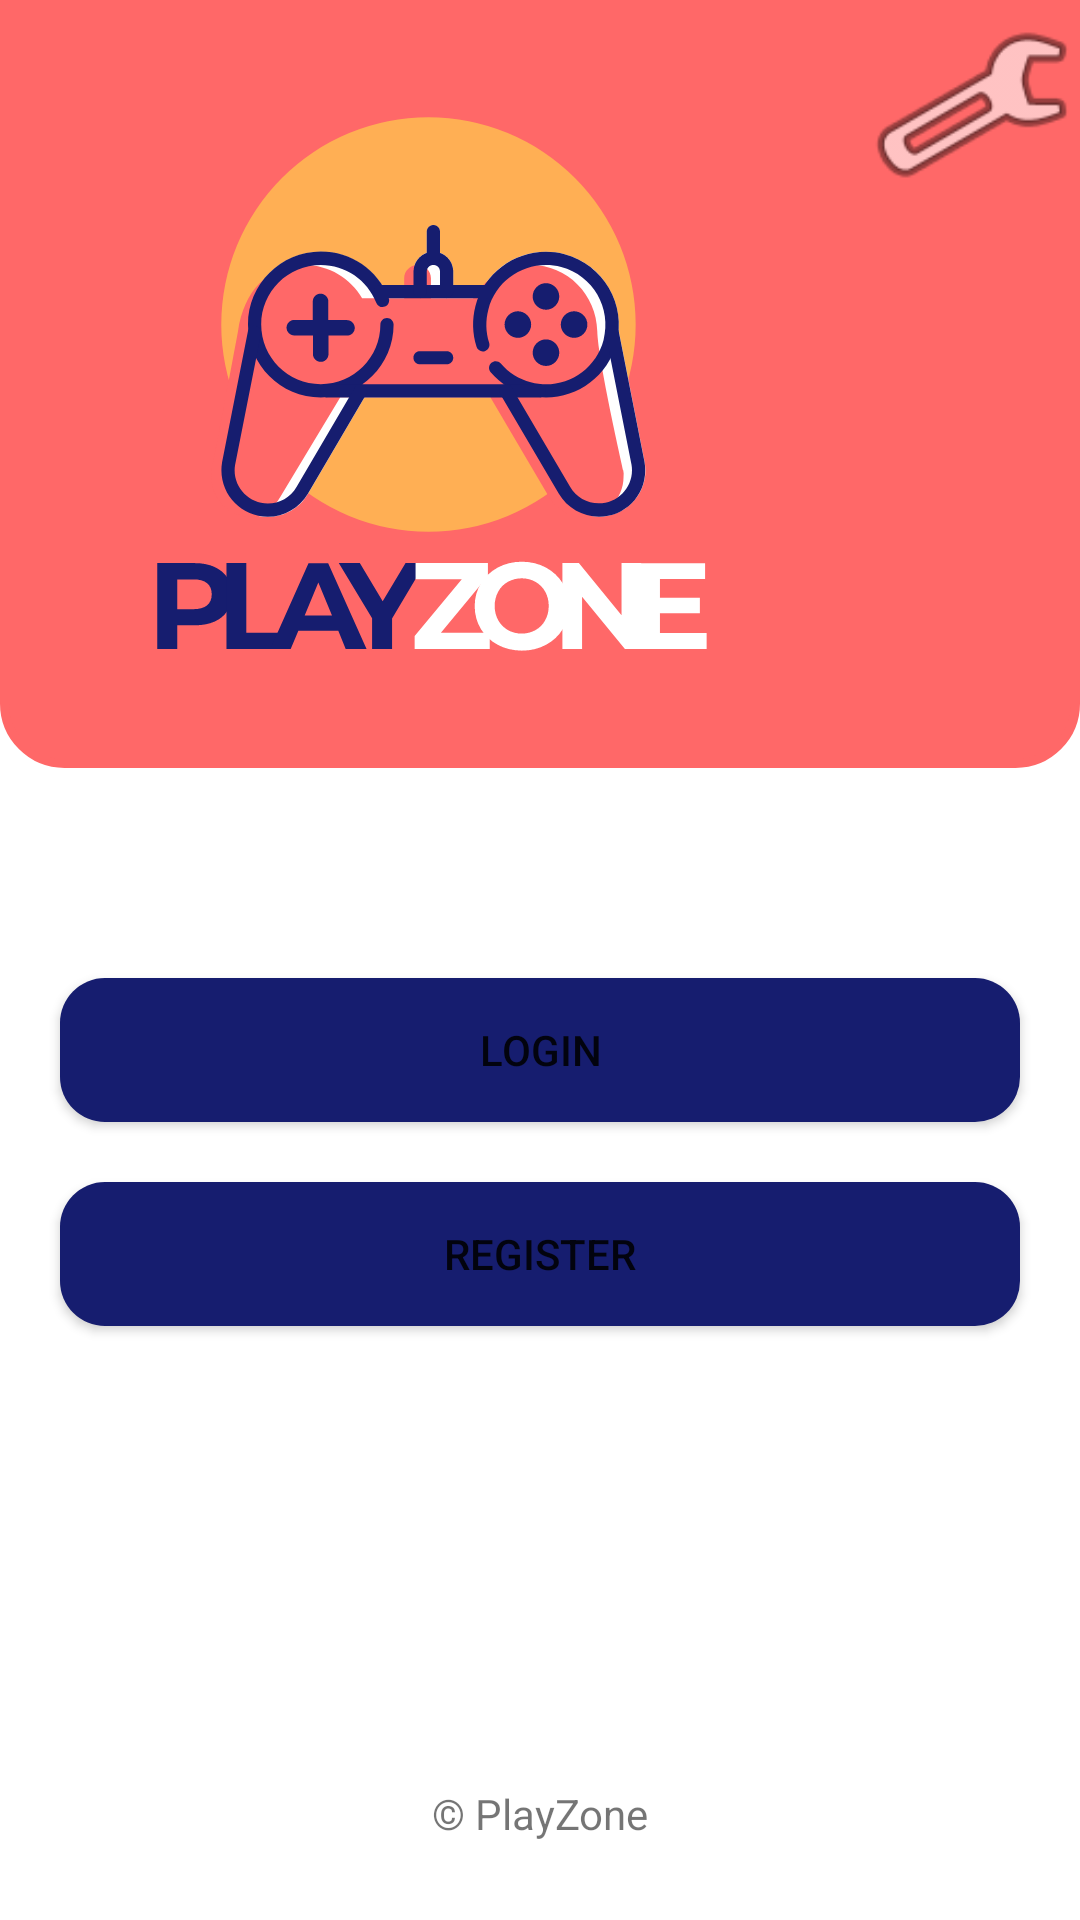

Where to tap for icons on this 1080px x 1920px app screen, as (x,y):
manage: (972,105)
